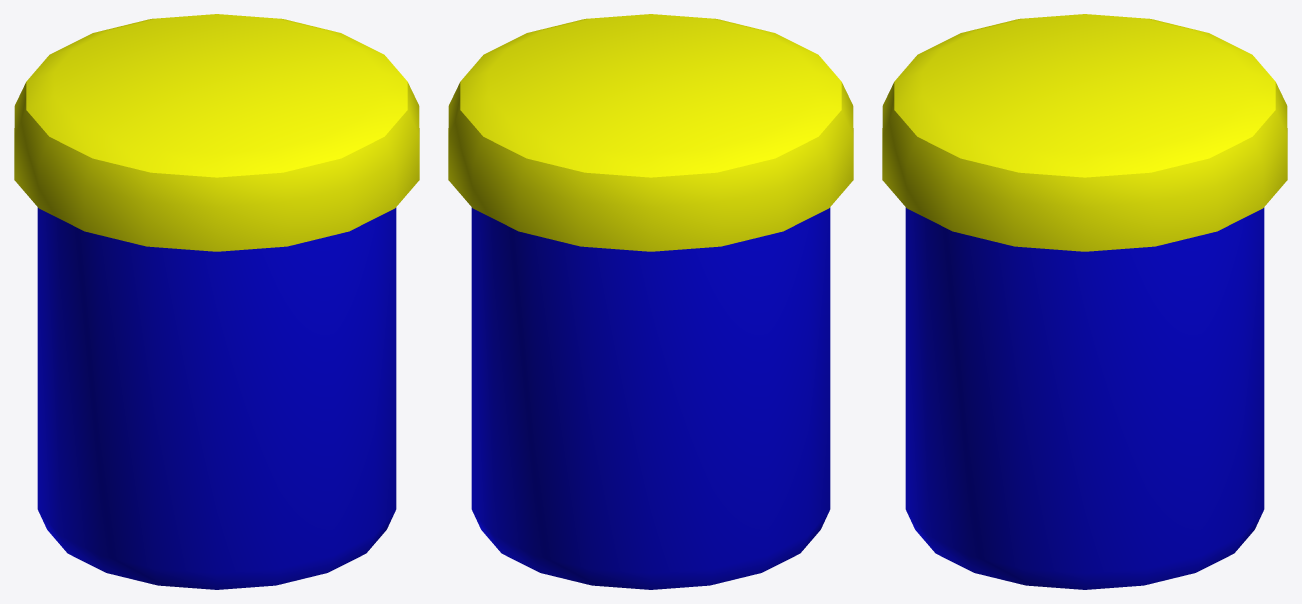
File: JarFixedPivot.FBX
3 views of the same model, side by side, from view 1: azimuth 30°, elevation 25°; view 2: azimuth 150°, elevation 25°; view 3: azimuth 270°, elevation 25° (orthographic).
Parts seen in each view (by area): view 1: Jar_Low, Lid_Low; view 2: Jar_Low, Lid_Low; view 3: Jar_Low, Lid_Low.
Part boxes in pixels (bbox=[...]): Jar_Low: bbox=[37, 207, 396, 589]; Lid_Low: bbox=[14, 14, 419, 251]; Jar_Low: bbox=[471, 207, 830, 589]; Lid_Low: bbox=[448, 14, 853, 251]; Jar_Low: bbox=[905, 207, 1264, 589]; Lid_Low: bbox=[882, 14, 1287, 251].
Bounding box in the file's own units: 9.02 × 10.72 × 8.88.
